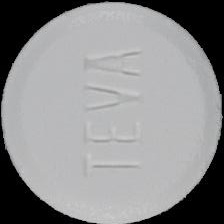76237-126: (0, 0, 224, 224)
